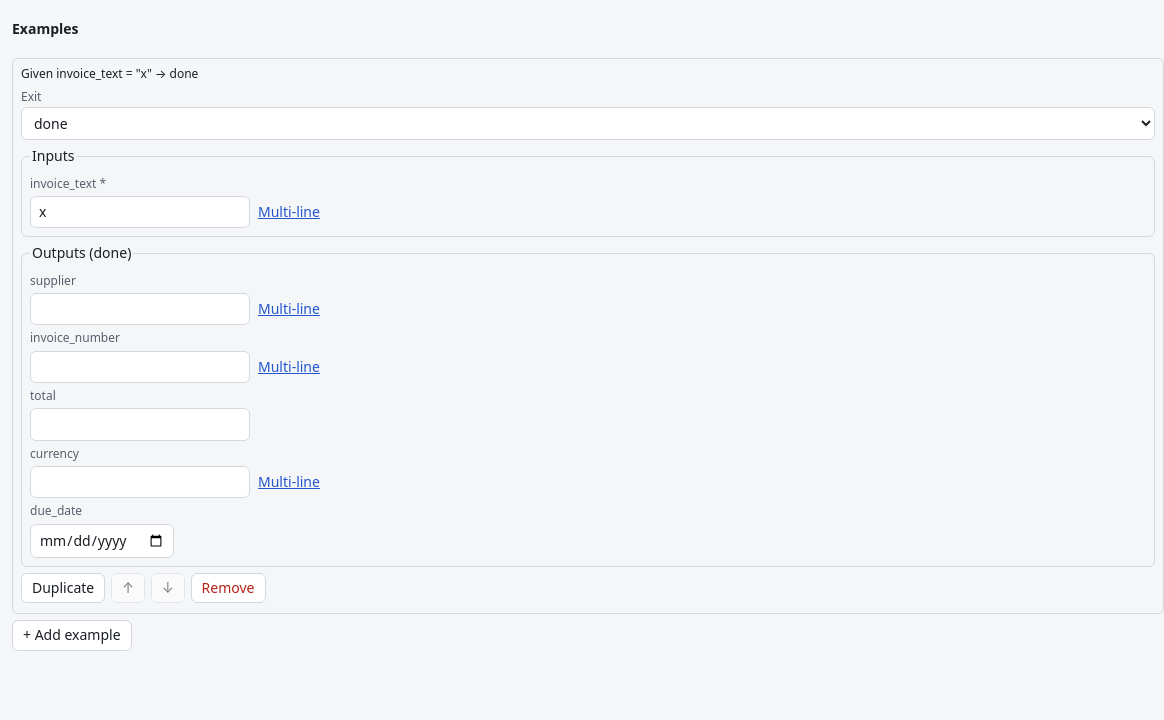
Test: ExamplesEditor › swaps the output fields when the exit changes
The width and height of the screenshot is (1164, 720).
Expected: the number field labelled "total" is shown, 30,408 -> 250,441
Select "not_an_invoice" in the dropdown labelled "Exit" at (588, 124), box 21,107 -> 1155,140
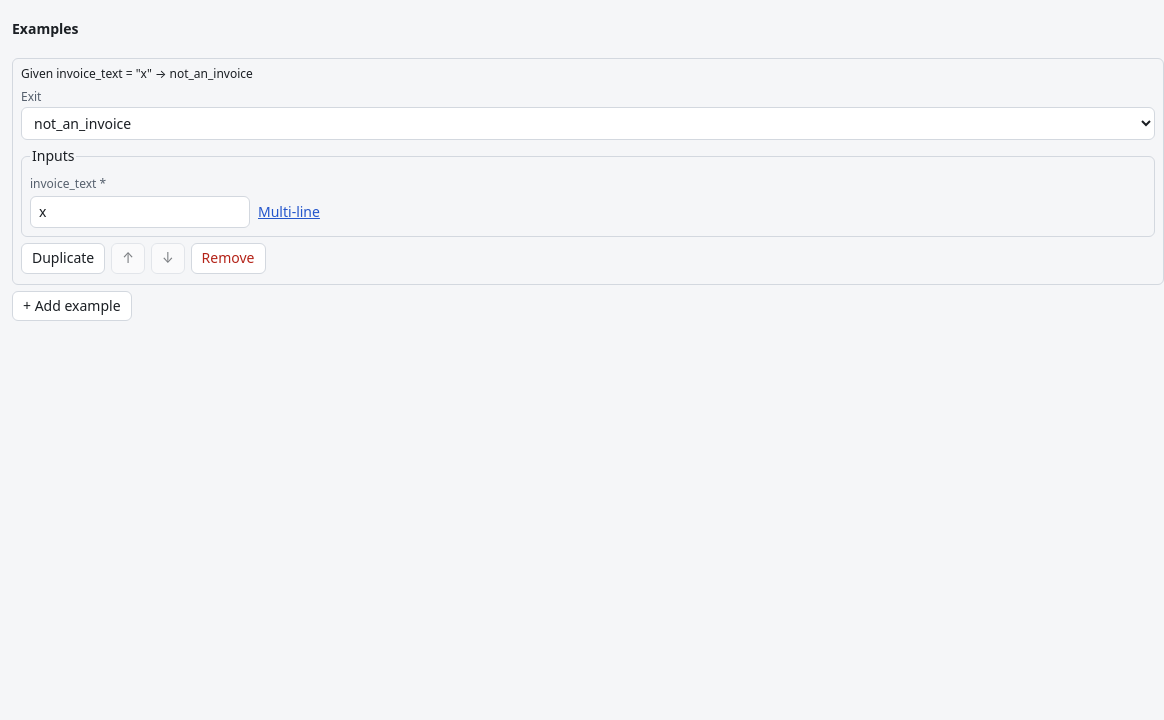
Now the label labelled "total" is gone
Now the text "Outputs" is gone
